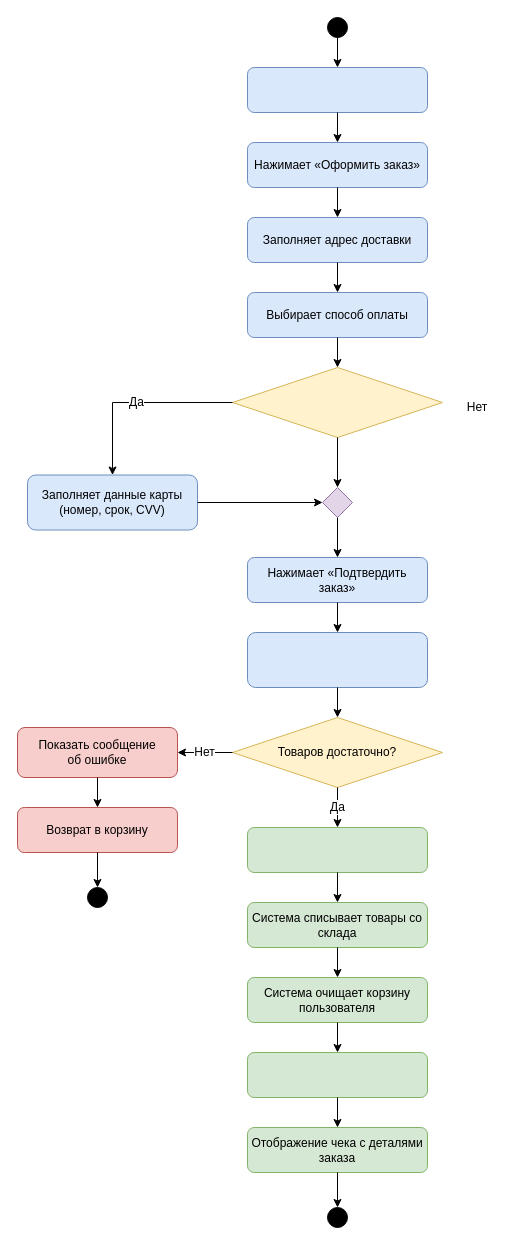
Some shapes in this 515 by 1245 pixel diagram are drawn without their labels. Each missing label, with the box of its shape:
Перенаправление на страницу успеха: (246, 1052, 428, 1098)
Пользователь переходит в корзину: (246, 66, 428, 112)
Система проверяет наличие товаров на складе: (246, 632, 428, 688)
Система создаёт заказ в БД: (246, 826, 428, 872)
Способ оплаты = карта?: (232, 366, 442, 438)
